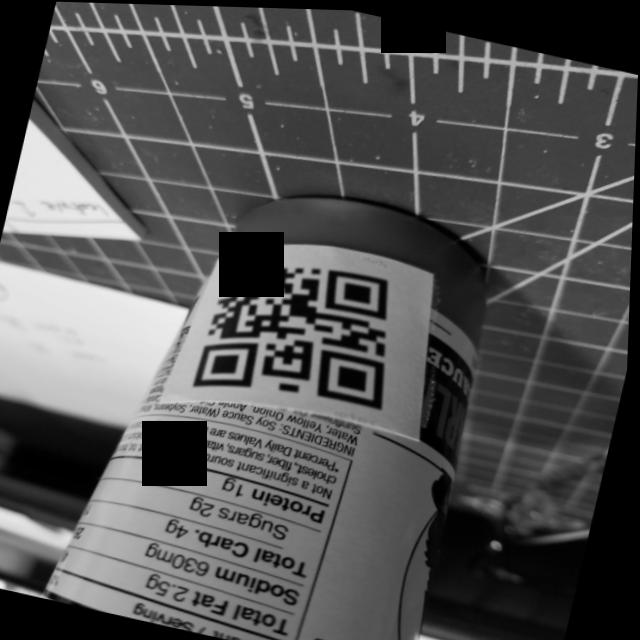QR_CODE: (189, 235, 434, 437)
